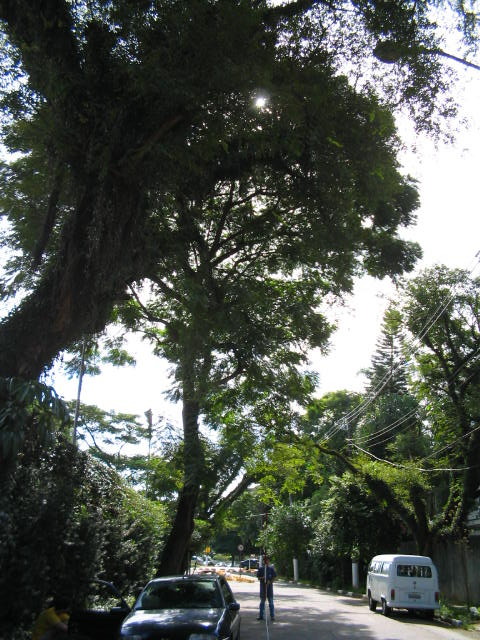crown: (120, 172, 424, 429)
stem: (139, 511, 199, 623)
stick: (256, 510, 273, 622)
tree: (118, 171, 424, 624)
